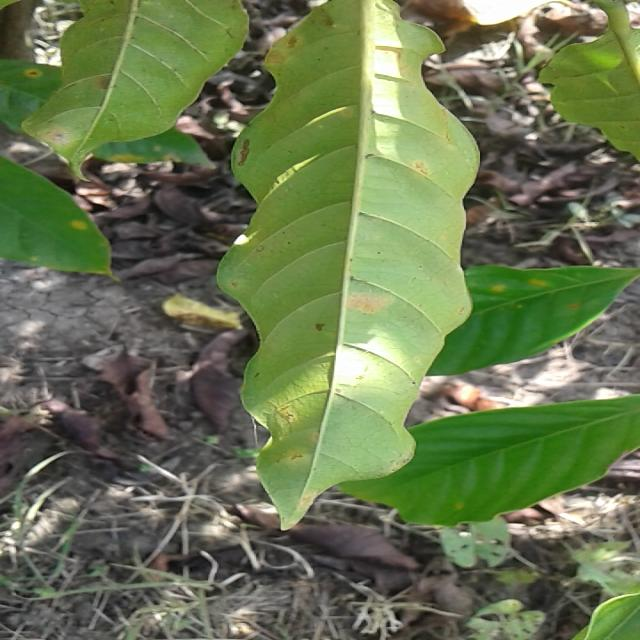Enfermedad-Roya: (223, 0, 482, 530)
